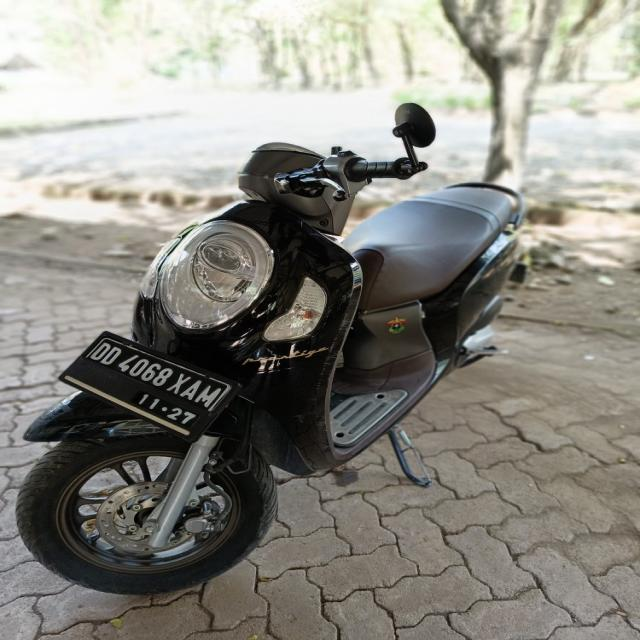plates: (60, 339, 226, 442)
